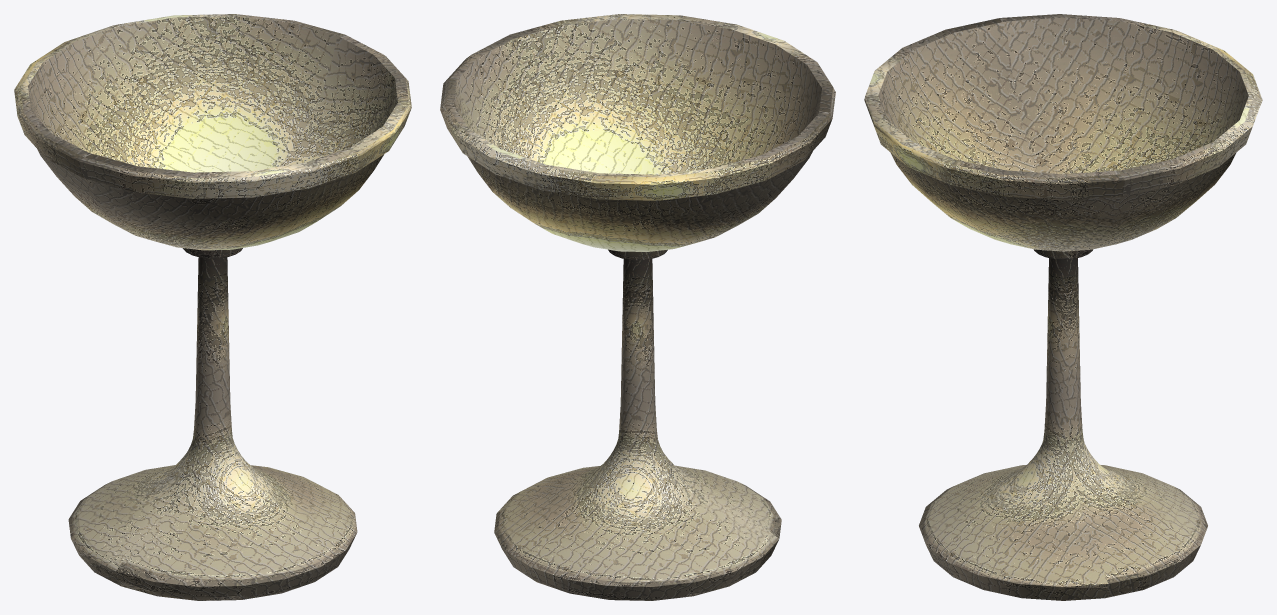
Rendered from BGMD_Vessel.fbx.
3 renders of one model, left to right at view 1: azimuth 30°, elevation 25°; view 2: azimuth 150°, elevation 25°; view 3: azimuth 270°, elevation 25°, orthographic.
Parts seen in each view (by area): view 1: utuwa; view 2: utuwa; view 3: utuwa.
Part boxes in pixels (x1,y1,x2,y2): utuwa: (14,14,411,600); utuwa: (440,14,835,600); utuwa: (864,14,1262,600).
Size of the model in its own units: 19.33 by 23.95 by 19.33.
